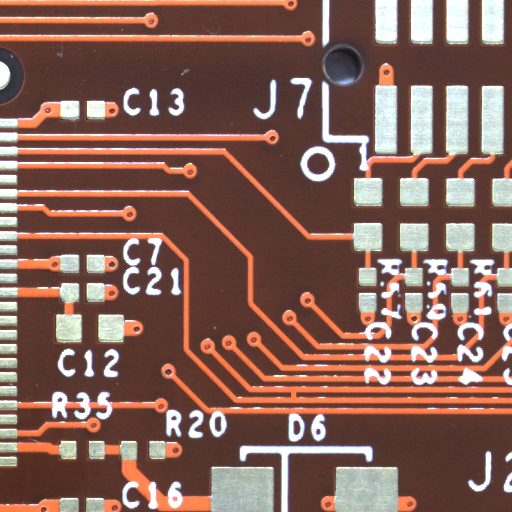Short: (293, 394, 303, 405)
